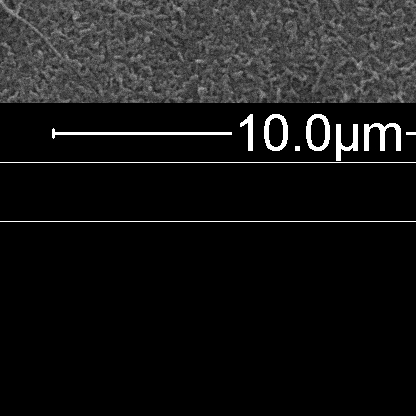cell2surface: (0, 0, 52, 42)
